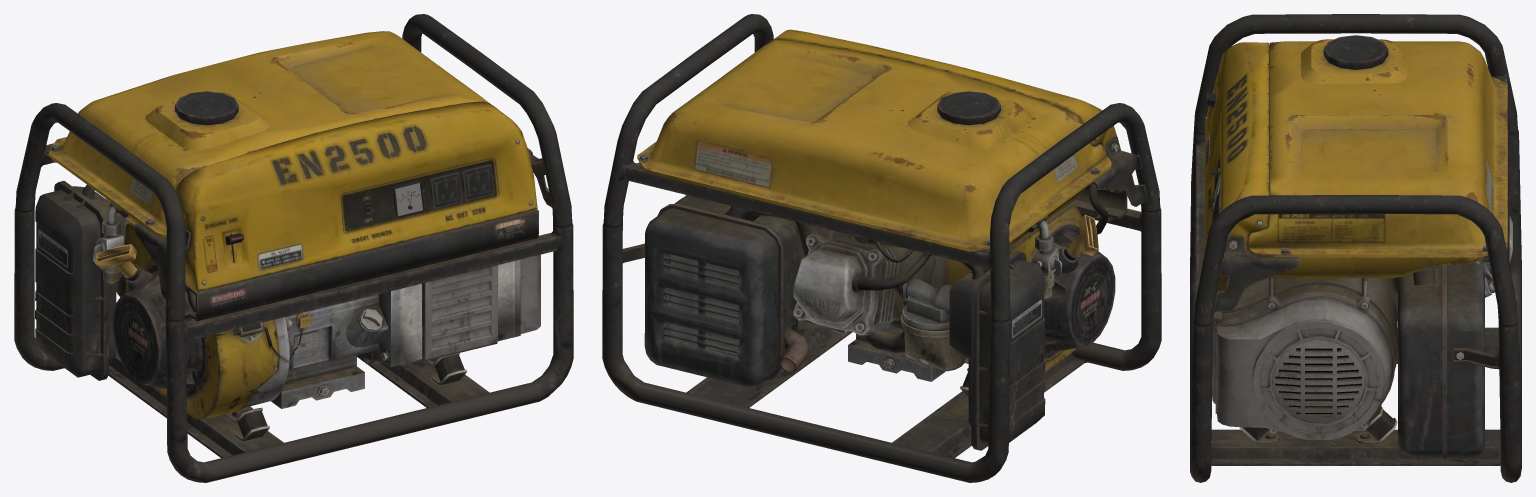
The model's file is portable_generator_1k.glb.
The picture shows the model from 3 angles, left to right: view 1: azimuth 30°, elevation 25°; view 2: azimuth 150°, elevation 25°; view 3: azimuth 270°, elevation 25°; orthographic projection.
Parts seen in each view (by area): view 1: portable_generator; view 2: portable_generator; view 3: portable_generator.
Part boxes in pixels (bbox=[...]): portable_generator: bbox=[14, 14, 573, 482]; portable_generator: bbox=[602, 14, 1161, 482]; portable_generator: bbox=[1190, 14, 1521, 482].
Bounding box in the file's own units: 0.8169 × 0.5752 × 0.564.
Materials: 2 (2 with a texture image).
